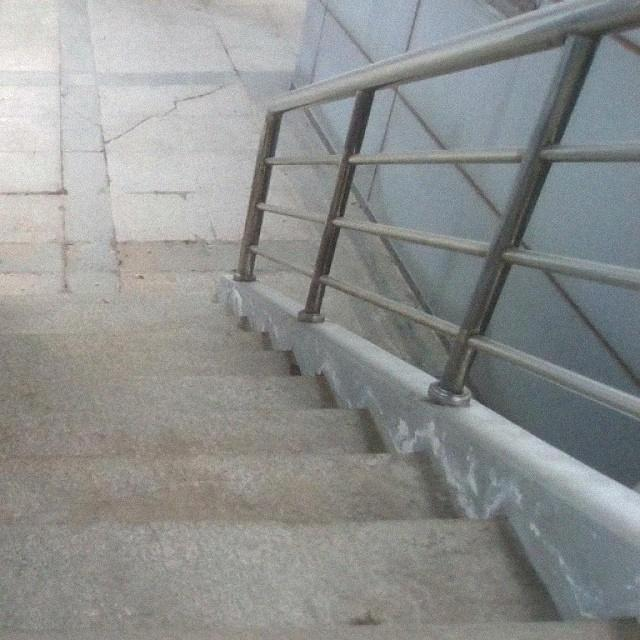stair: (2, 289, 522, 621)
